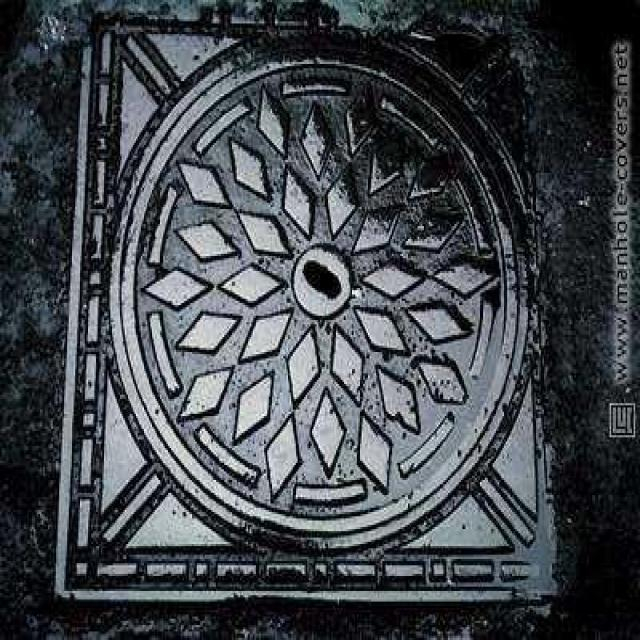manhole: (58, 22, 554, 601)
